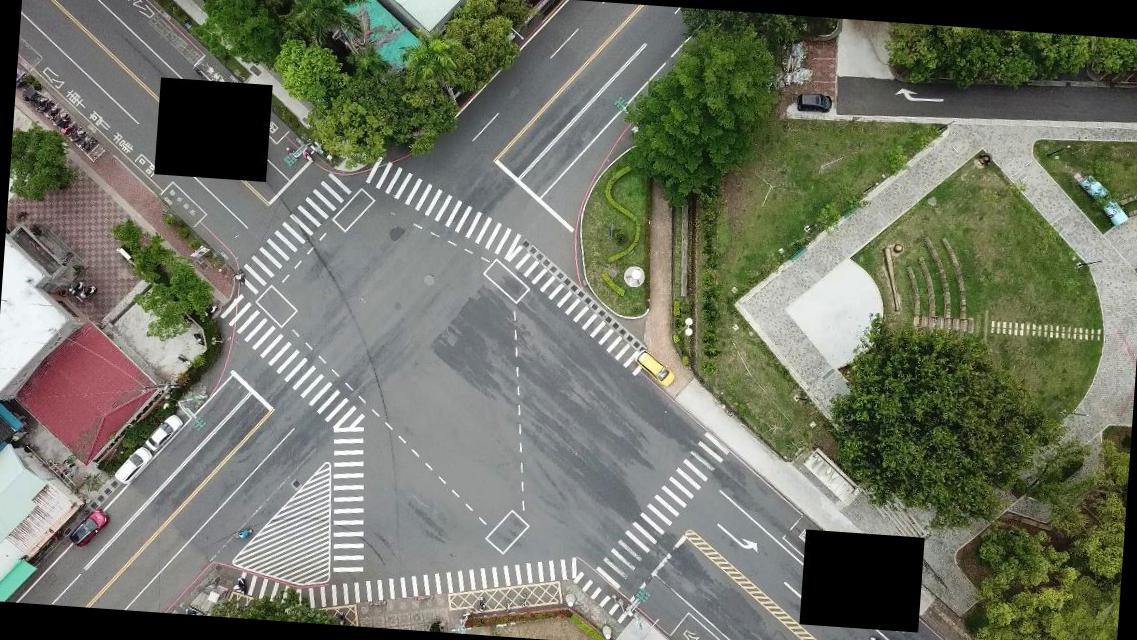vehicle: (69, 505, 109, 547), (633, 348, 676, 386), (110, 445, 150, 485), (146, 412, 183, 453), (796, 90, 832, 112)
